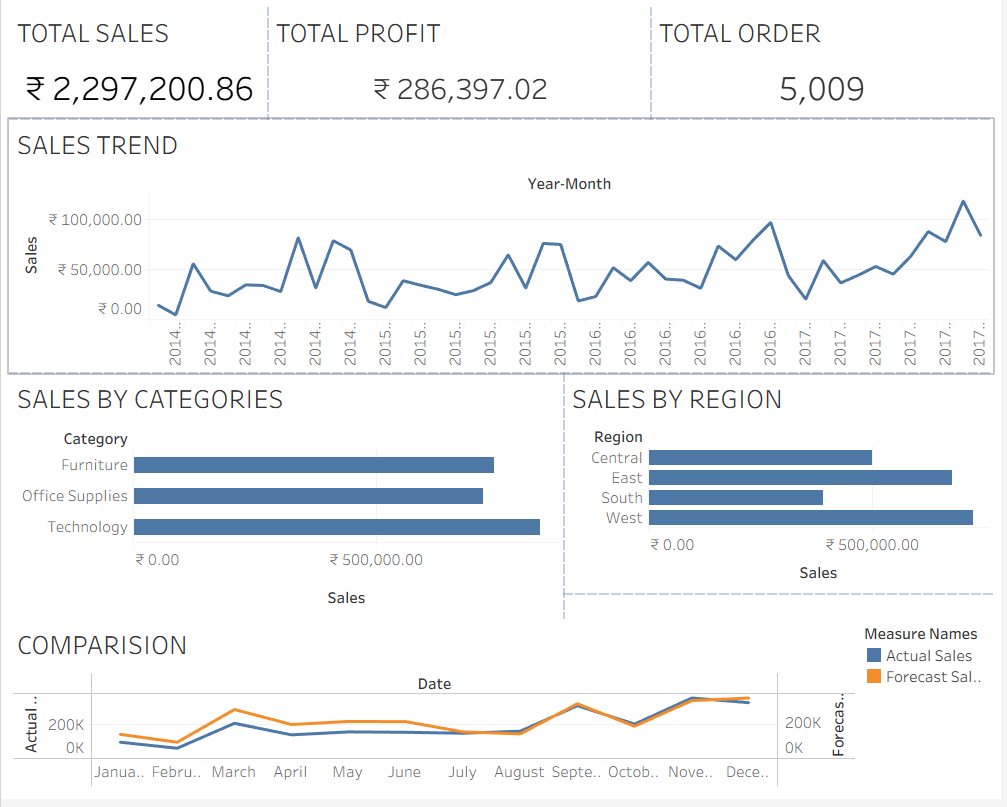

The page's visual inventory and layout, read from the dashboard file:
{"tool":"tableau","page":{"name":"Dashboard 1","canvas":[1000,800],"ordinal":0},"visuals":[{"type":"worksheet","title":"Sheet 1","mark":"Automatic","box":[8,8,259.3,112.4]},{"type":"worksheet","title":"Sheet 2","mark":"Automatic","box":[267.3,8,382.6,112.4]},{"type":"worksheet","title":"Sheet 3","mark":"Automatic","box":[649.9,8,342,112.4]},{"type":"worksheet","title":"Sheet 4","mark":"Line","rows":["Sales"],"cols":["Year-Month"],"box":[8,120.4,984,253.4]},{"type":"worksheet","title":"Sheet 5","mark":"Automatic","rows":["Category"],"cols":["Sales"],"box":[8,373.8,555.1,246.2]},{"type":"worksheet","title":"Sheet 6","mark":"Automatic","rows":["Region"],"cols":["Sales"],"box":[563.1,373.8,428.9,221.2]},{"type":"blank","box":[563.1,595,428.9,25]},{"type":"worksheet","title":"Sheet 7","mark":"Automatic","rows":["Actual Sales","Forecast Sales"],"cols":["Date"],"box":[8,620,851,172]},{"type":"legend","title":"Sheet 7","param":"[federated.19ekavt00fi1t81gf3wj50zugzcp].[:Measure Names]","box":[859,620,133,172]}]}

Visuals, with their boxes in screenshot pixels (x1, y1, x2, y2), scaled from the page's 1000x800 canvas onto the 1007x807 screenshot:
"Sheet 1" worksheet: rect(8, 8, 269, 121)
"Sheet 2" worksheet: rect(269, 8, 654, 121)
"Sheet 3" worksheet: rect(654, 8, 999, 121)
"Sheet 4" worksheet (Line marks): rect(8, 121, 999, 377)
"Sheet 5" worksheet: rect(8, 377, 567, 625)
"Sheet 6" worksheet: rect(567, 377, 999, 600)
blank: rect(567, 600, 999, 625)
"Sheet 7" worksheet: rect(8, 625, 865, 799)
"Sheet 7" legend: rect(865, 625, 999, 799)
